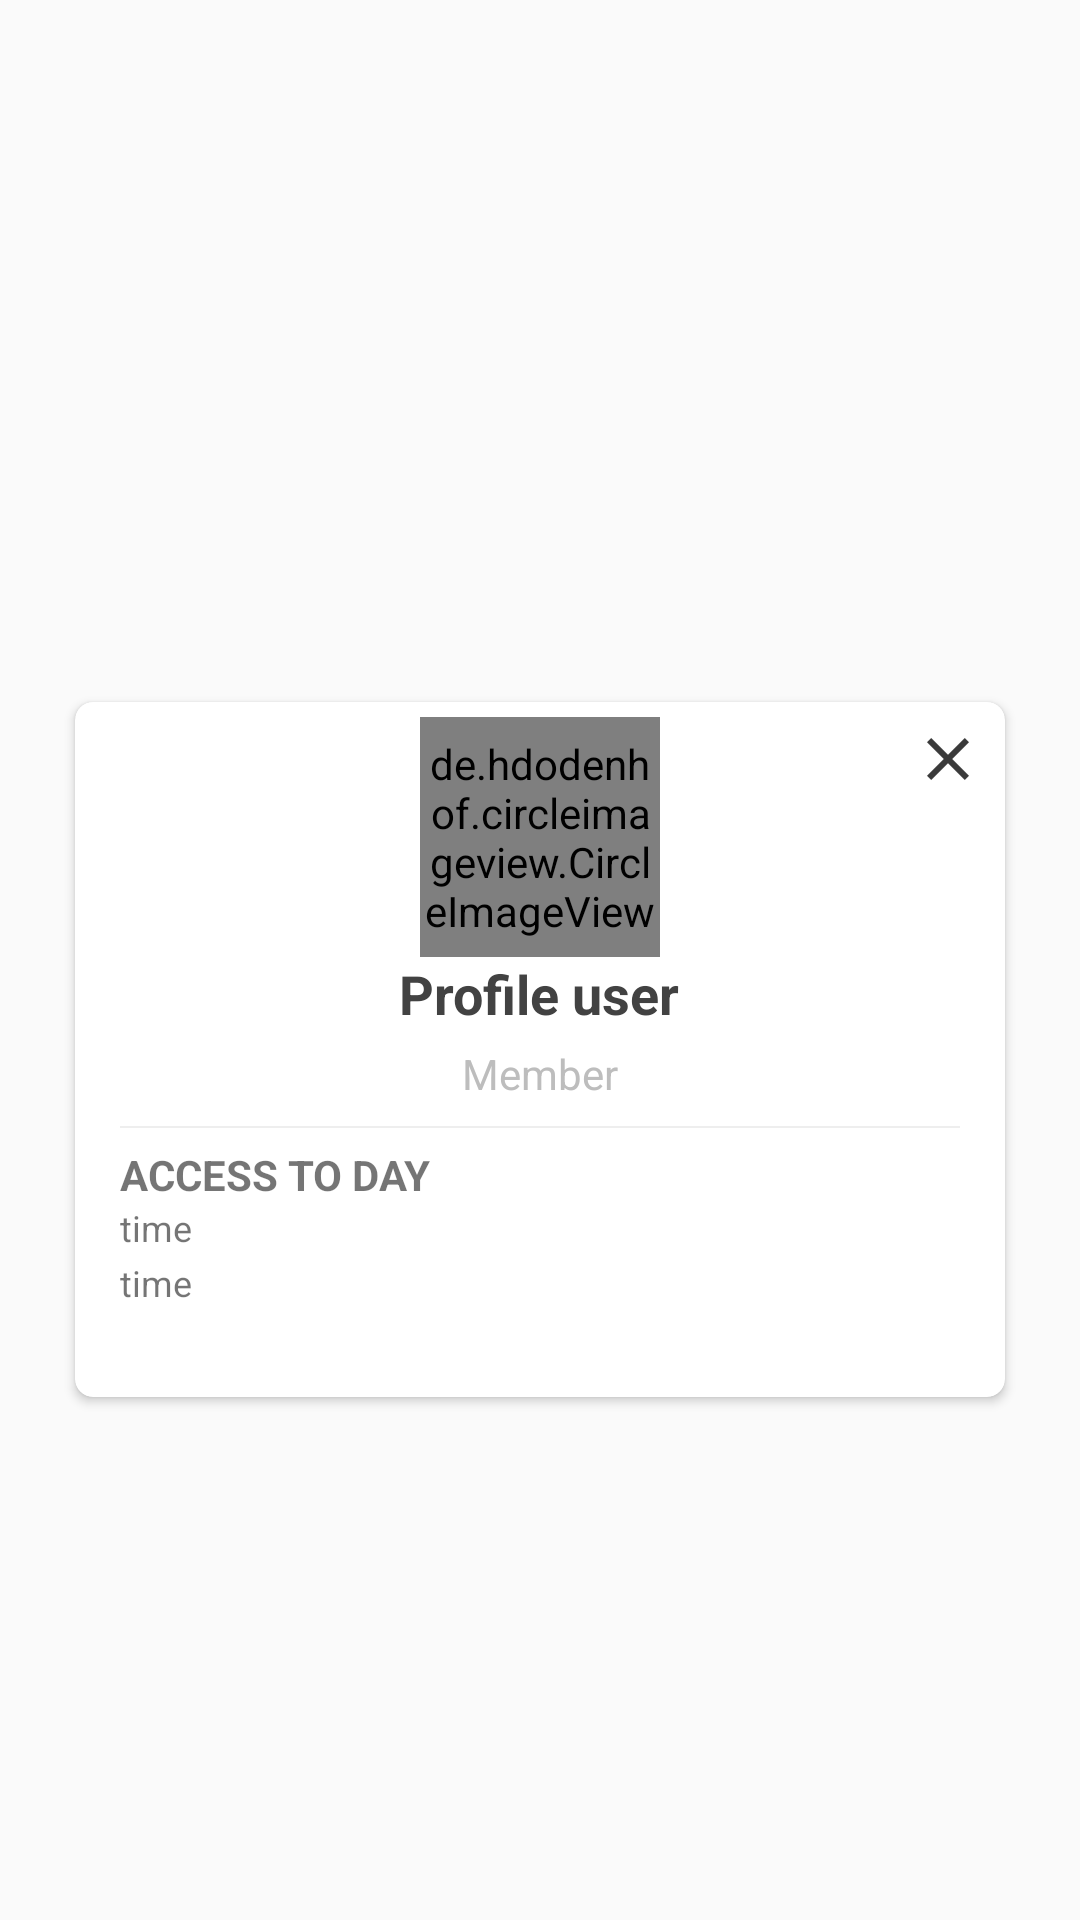

Point at icon controls on the screen. Image size 1080×1920, points as [x,y].
close: [948,759]
